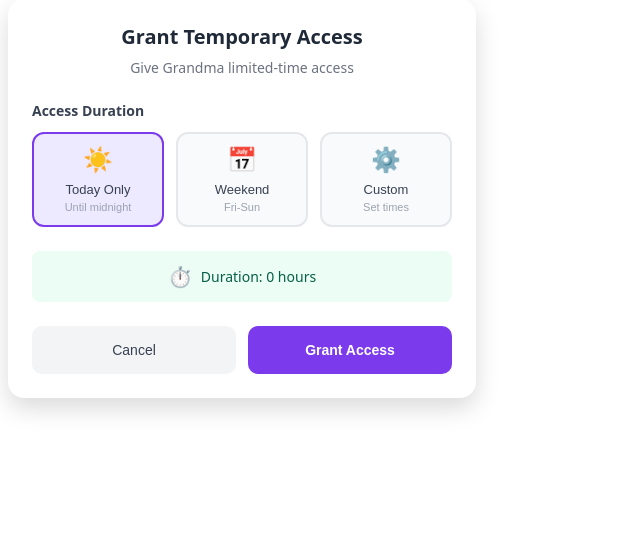
Test: TemporaryAccessGrantForm › Custom Date Selection (AC1) › shows error when end time before start time
Click the button with test id "preset-custom": [386, 180] box [320,132,452,227]
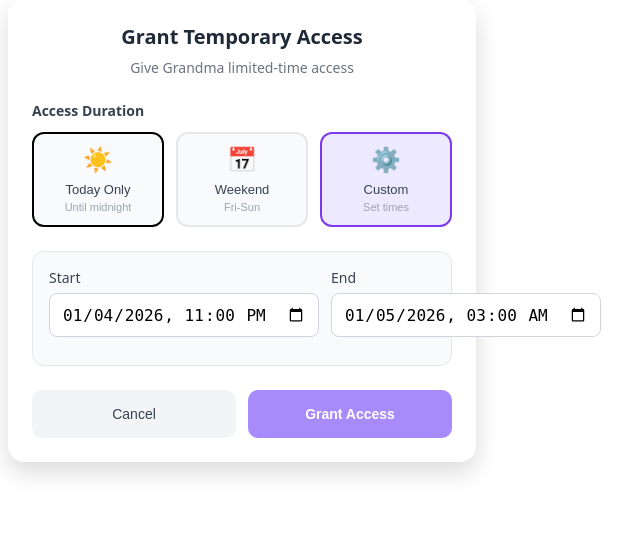
Note: Set end before start
Replace the text in the field with test id "custom-start-input" with "2026-01-05T18:00": [184, 315] box [49,293,319,337]
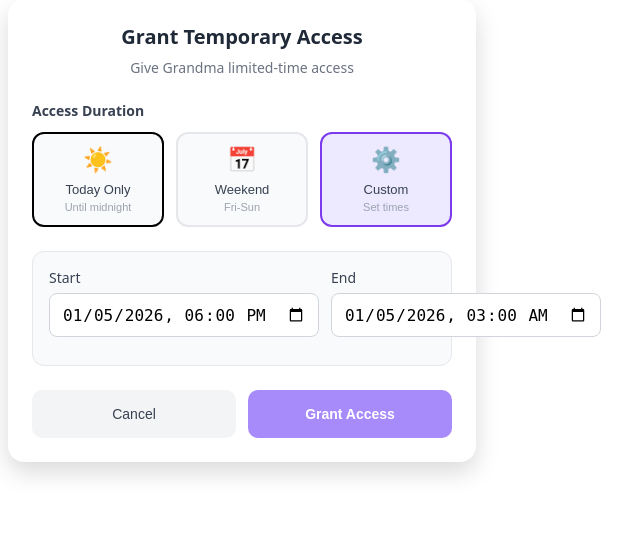
Replace the text in the field with test id "custom-end-input" with "2026-01-05T10:00": [466, 315] box [331,293,601,337]
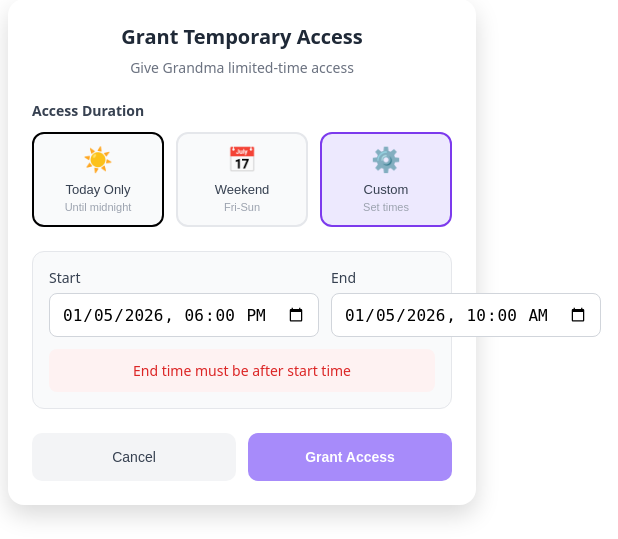
expect the text "End time must be after start time" is shown: met, box [49,349,435,392]
